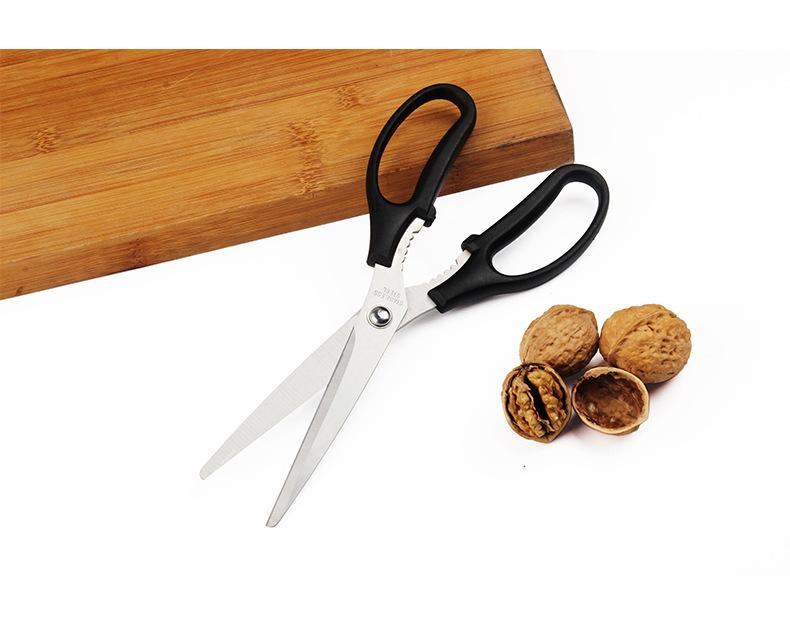scissor: (172, 86, 585, 556)
